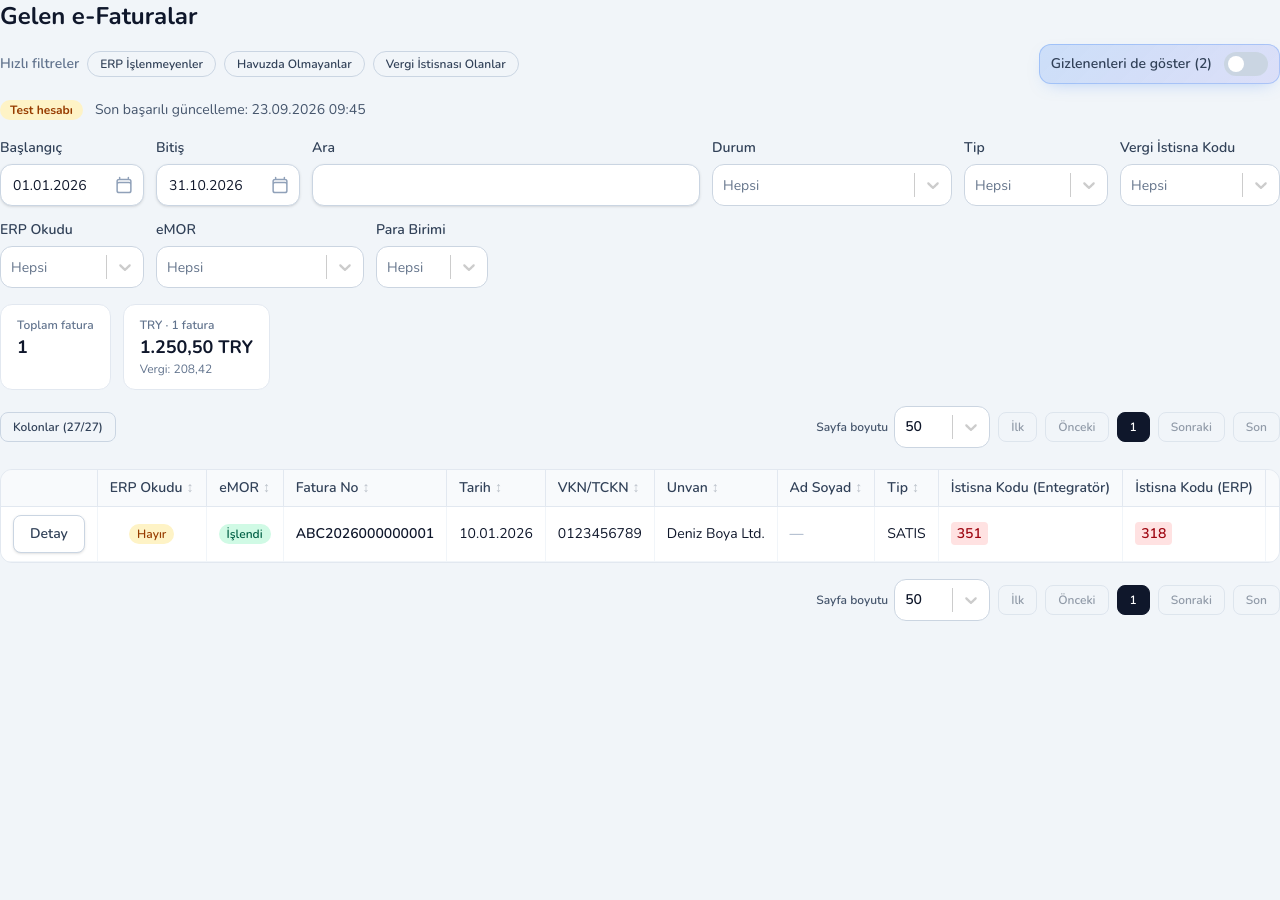
Test: EFaturalarPage › detayda kaynak kimliklerini ve ERP bayrağının yalnız gösterildiğini belirtir
The image size is (1280, 900).
Expected: the text "Deniz Boya Ltd." is shown, [667,524,765,544]
Click the button "Detay".
click(49, 534)  # box [13,515,85,553]
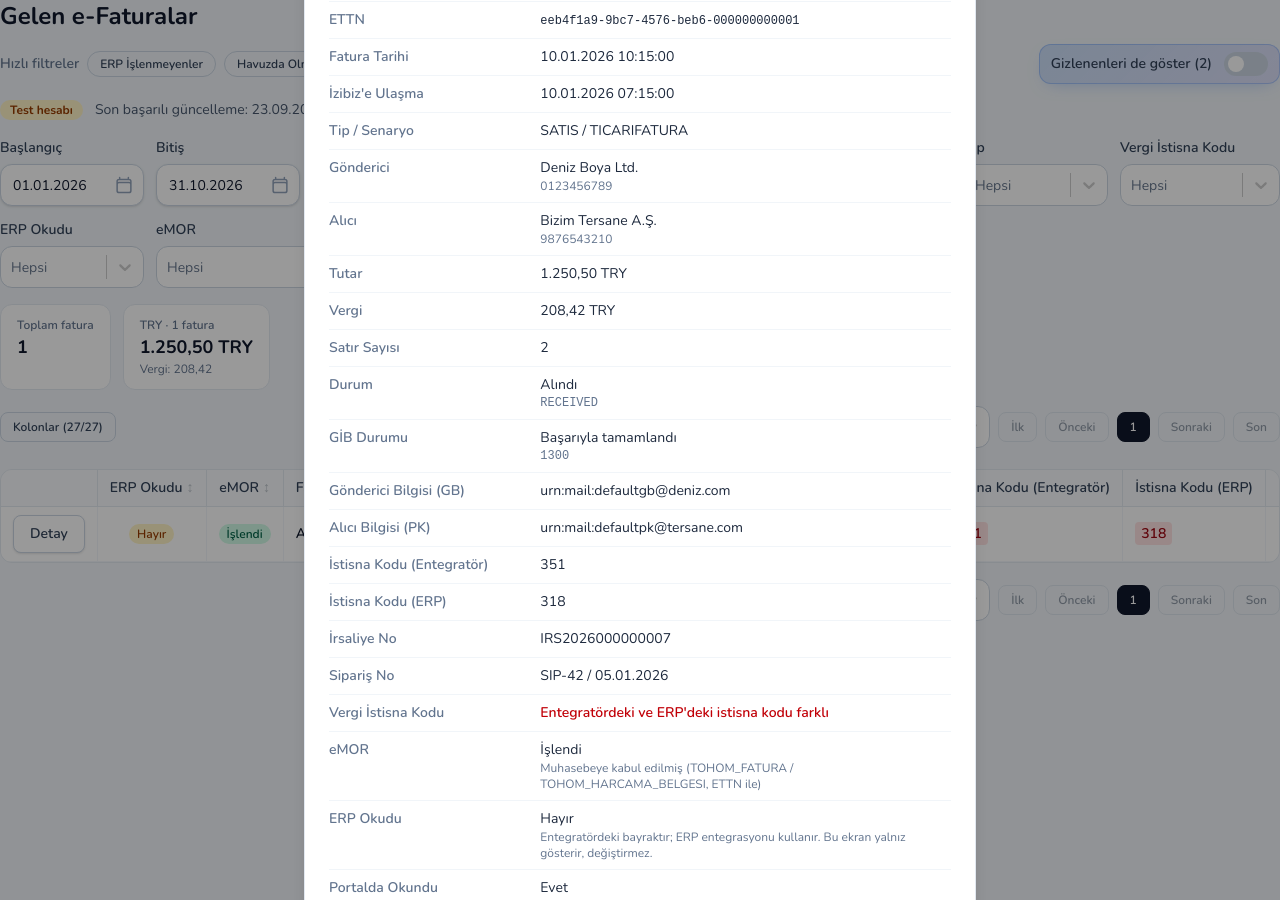
Now the text "eeb4f1a9-9bc7-4576-beb6-000000000001" is shown, box [540,14,800,28]
Now the text "Bu ekran yalnız gösterir, değiştirmez" is shown, box [540,828,906,860]
